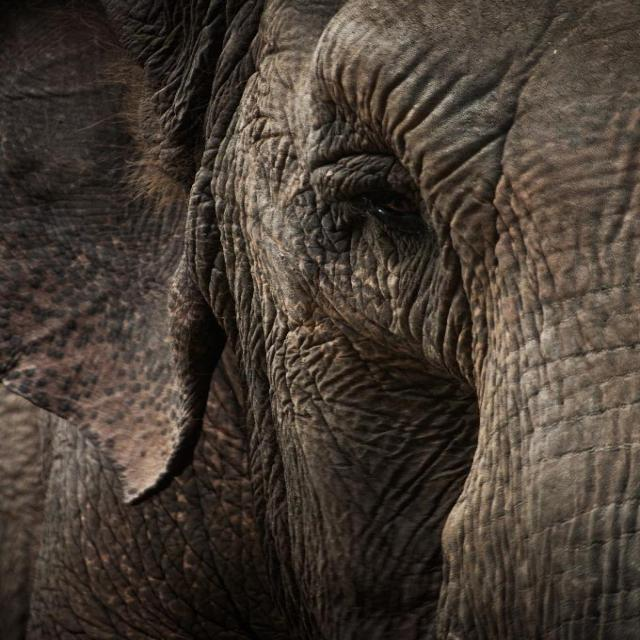Elephant: (38, 10, 613, 640)
